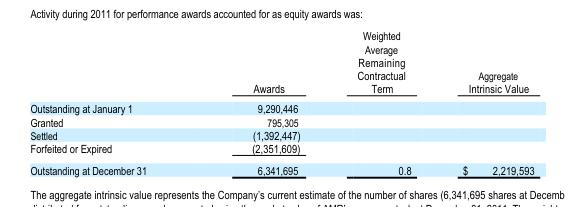table: (29, 29, 533, 176)
table column: (29, 29, 198, 176), (198, 29, 328, 176), (328, 29, 436, 176), (436, 29, 533, 176)
table column header: (29, 29, 533, 98)
table row: (29, 29, 533, 98), (29, 158, 533, 176), (29, 141, 533, 158), (29, 98, 533, 114), (29, 114, 533, 128), (29, 128, 533, 141)
